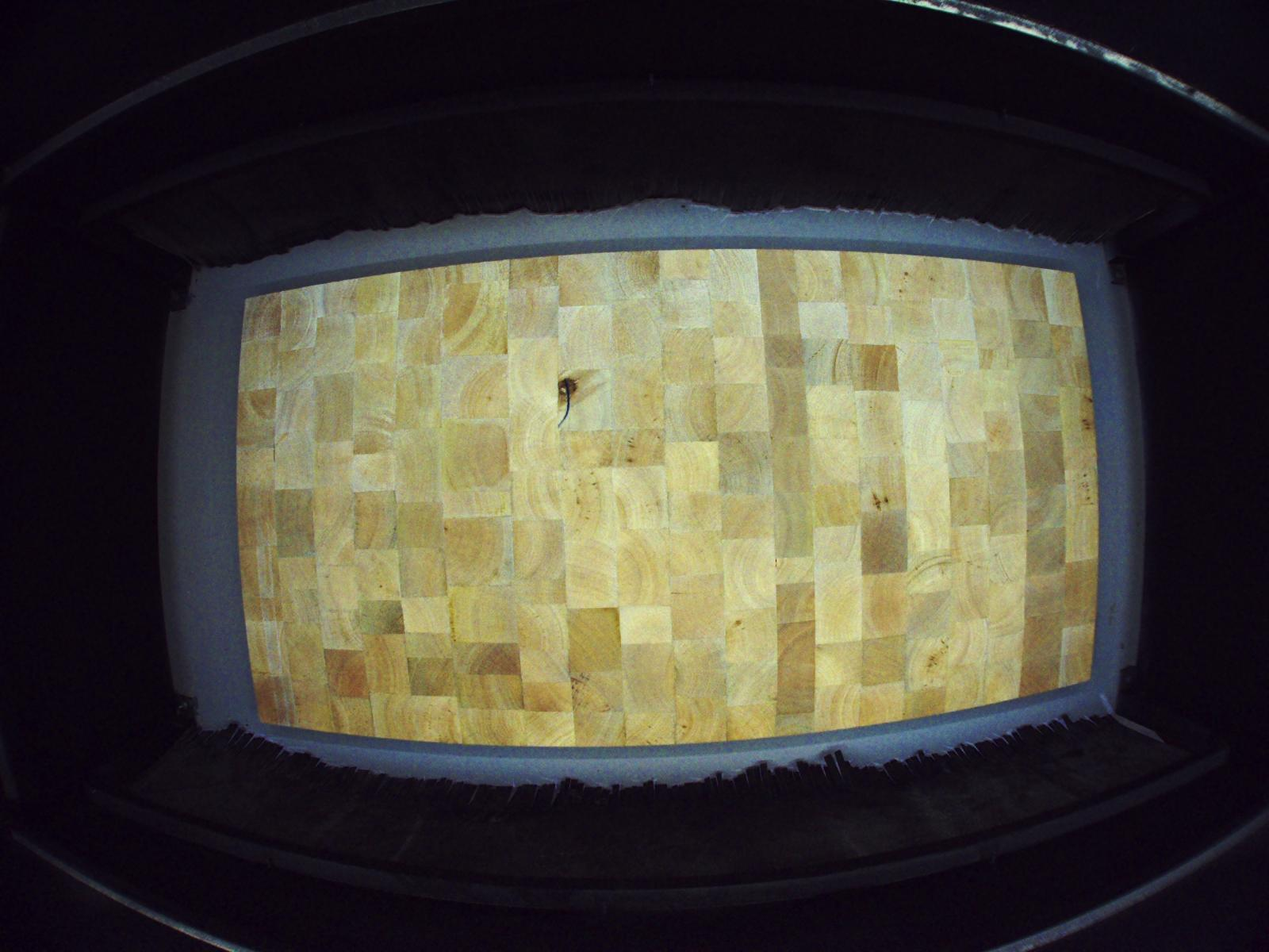nudillo: (556, 368, 604, 409)
